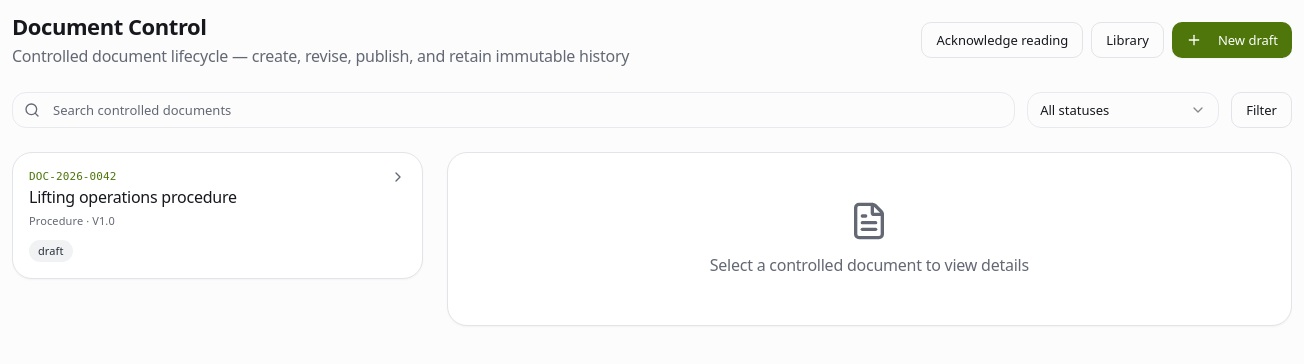
Test case: Document Control detail failure copy › offers a retry for a failure that might clear
Click the text "Lifting operations procedure" at (133, 197), box [29,185,237,209]
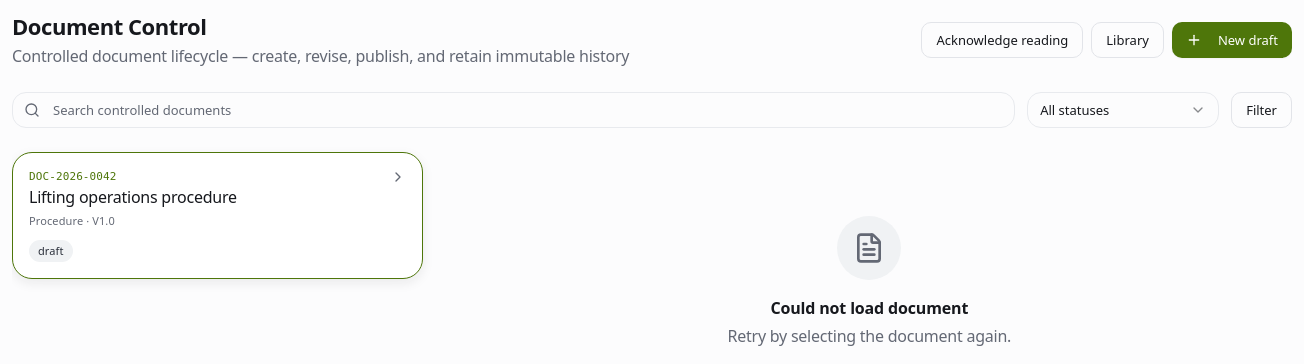
Expected: the element with test id "document-control-detail-failed" shows "Retry by selecting the document again", [728,325,1011,347]
